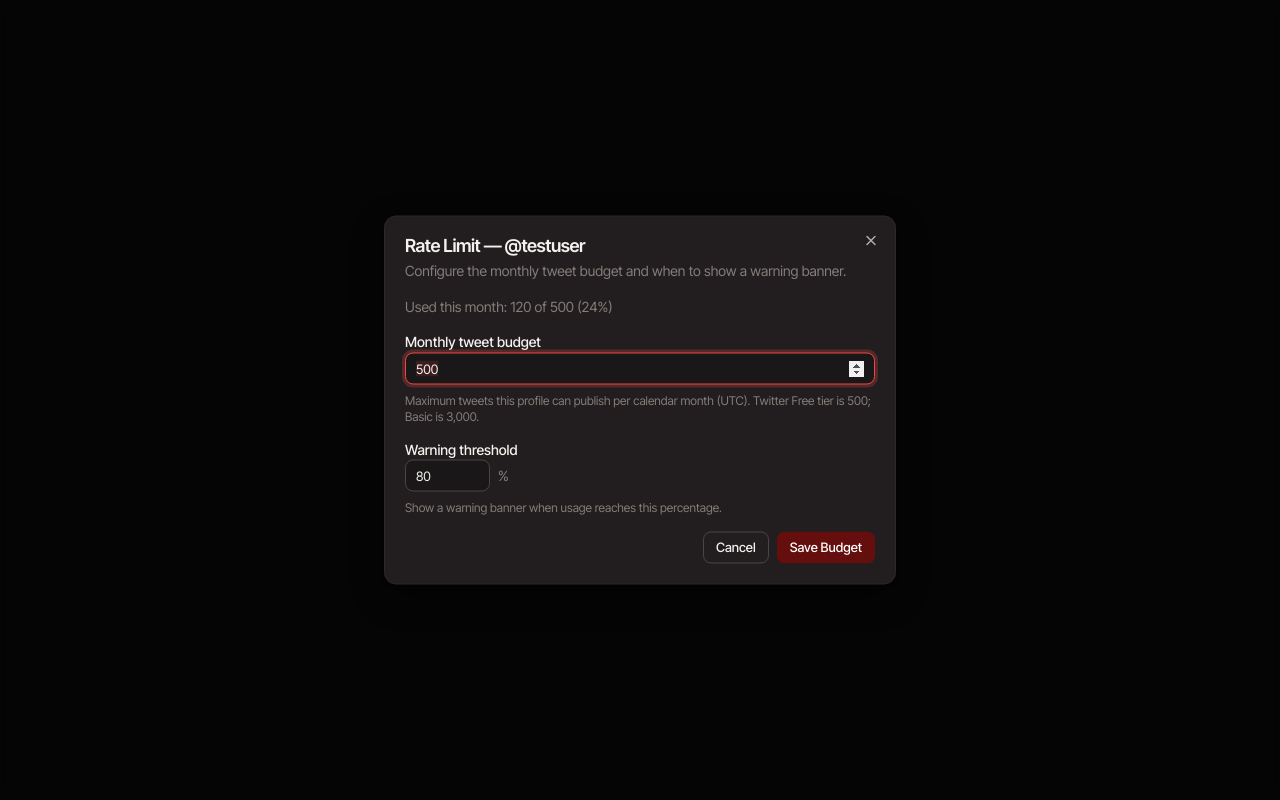
Test: RateLimitSettingsDialog › shows a validation error for warn threshold value 100
Expected: the text "Used this month: 120 of 500 (24%)" is shown, left=405, top=298, right=613, bottom=314
Replace the text in the number field labelled "Warning threshold" with "100": (448, 476) left=405, top=460, right=490, bottom=492
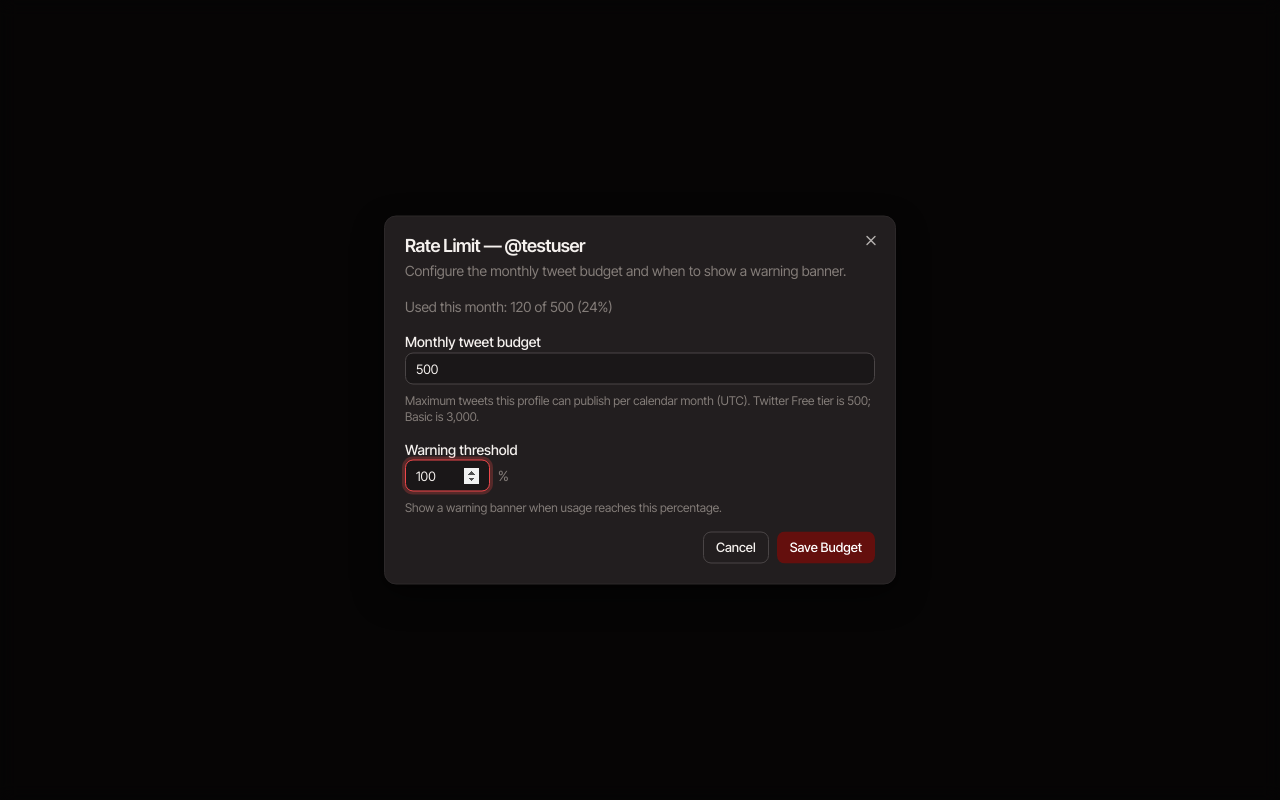
Click the button "Save Budget": (826, 548) left=777, top=532, right=875, bottom=564
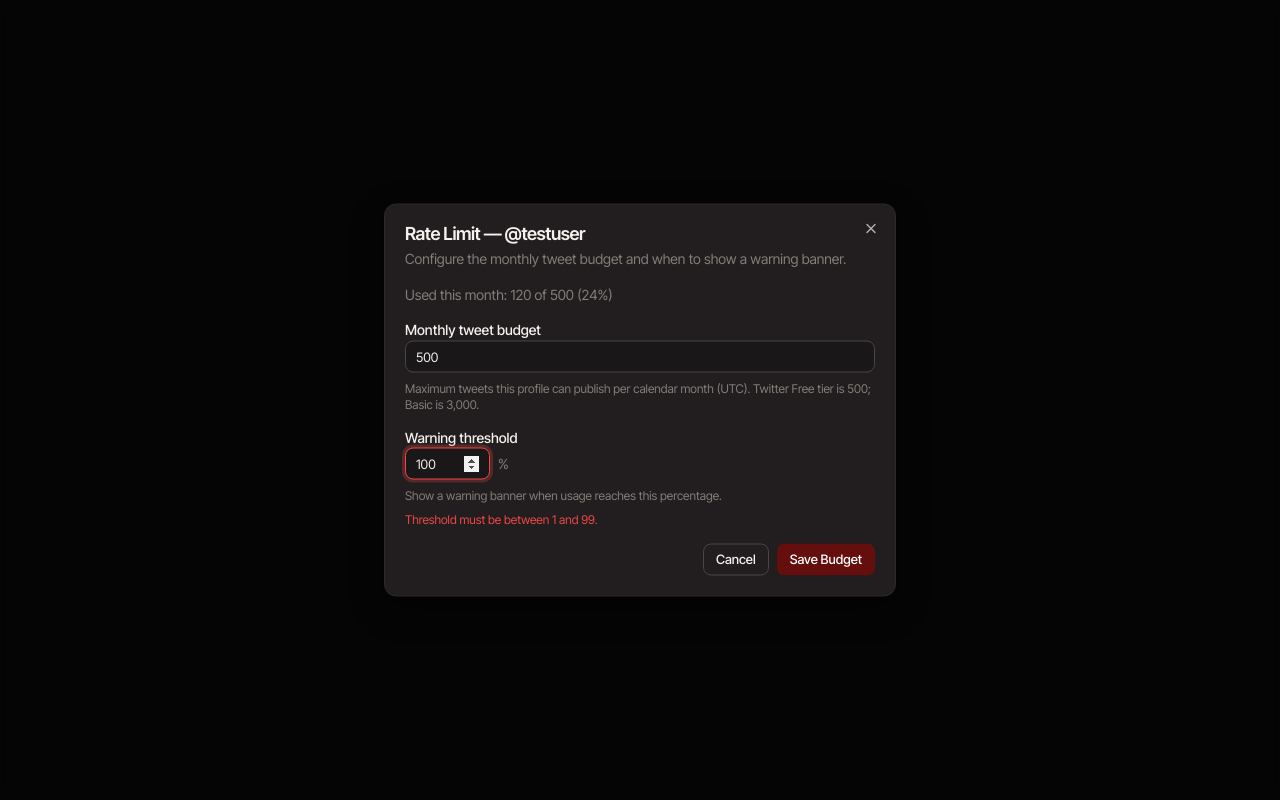
Now the text "Threshold must be between 1 and 99." is shown, box left=405, top=512, right=598, bottom=526
